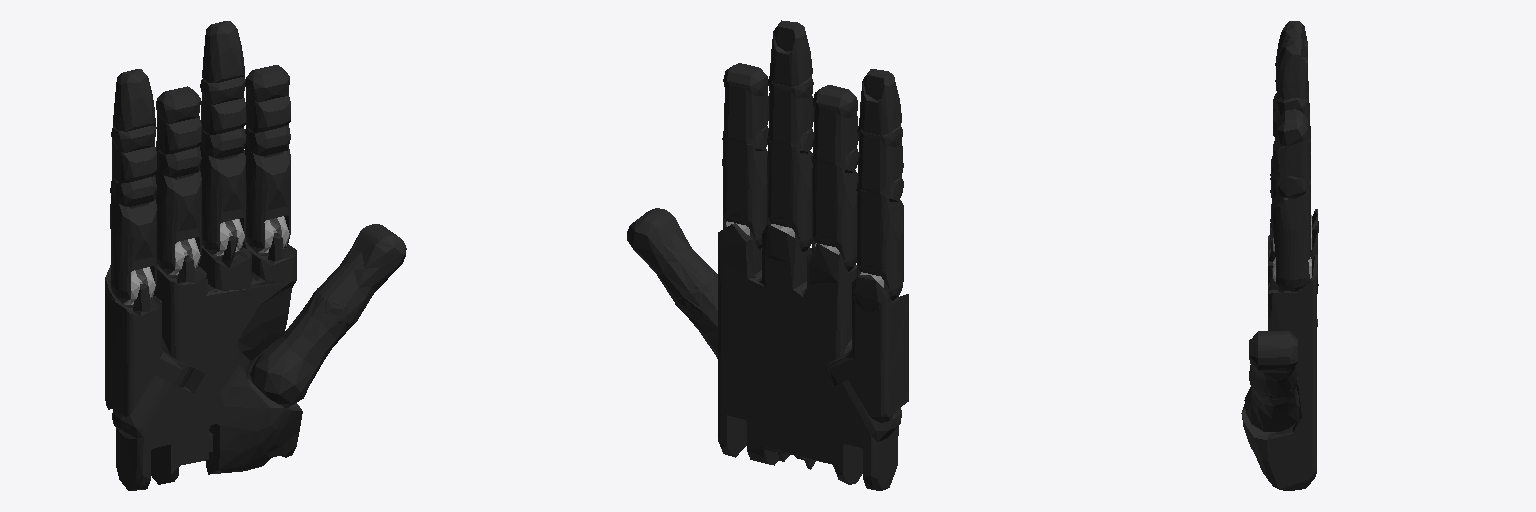
--- What the picture shows (computed from the rendered views, not written in the file) ---
Views: 3 orthographic renders of the robot side by side, from view 1: azimuth 30°, elevation 25°; view 2: azimuth 150°, elevation 25°; view 3: azimuth 270°, elevation 25°.
Robot: shadowhand — 29 links, 28 joints (22 revolute, 6 fixed); root link base_link; default pose: all joints at 0.
Visible links, largest first — view 1: palm, lfmetacarpal, thproximal, thmiddle, rfmiddle, ffmiddle, lfproximal, ffproximal, rfproximal, mfproximal, lfmiddle, mfmiddle (+6 smaller); view 2: palm, lfmetacarpal, thmiddle, lfproximal, rfproximal, mfproximal, ffproximal, rfmiddle, ffmiddle, lfmiddle, mfmiddle, lfdistal (+2 smaller); view 3: palm, ffproximal, thmiddle, ffmiddle, thproximal, mfdistal, mfmiddle.
Boxes of the visible links, bbox=[...] form: palm: bbox=[112, 233, 302, 490]; lfmetacarpal: bbox=[105, 265, 194, 416]; thproximal: bbox=[250, 288, 353, 407]; thmiddle: bbox=[312, 224, 406, 328]; rfmiddle: bbox=[156, 86, 201, 177]; ffmiddle: bbox=[245, 65, 290, 155]; lfproximal: bbox=[110, 194, 156, 303]; ffproximal: bbox=[244, 144, 290, 252]; rfproximal: bbox=[155, 168, 201, 274]; mfproximal: bbox=[200, 146, 245, 254]; lfmiddle: bbox=[110, 125, 156, 206]; mfmiddle: bbox=[200, 77, 246, 158]; palm: bbox=[718, 223, 901, 490]; lfmetacarpal: bbox=[821, 275, 908, 422]; thmiddle: bbox=[627, 208, 717, 311]; lfproximal: bbox=[857, 190, 903, 300]; rfproximal: bbox=[812, 161, 857, 271]; mfproximal: bbox=[767, 141, 812, 251]; ffproximal: bbox=[722, 139, 767, 249]; rfmiddle: bbox=[812, 85, 858, 172]; ffmiddle: bbox=[722, 63, 768, 150]; lfmiddle: bbox=[856, 125, 903, 201]; mfmiddle: bbox=[767, 76, 813, 153]; lfdistal: bbox=[859, 69, 901, 135]; palm: bbox=[1241, 212, 1318, 490]; ffproximal: bbox=[1270, 181, 1310, 291]; thmiddle: bbox=[1249, 331, 1297, 399]; ffmiddle: bbox=[1273, 109, 1310, 198]; thproximal: bbox=[1244, 365, 1299, 431]; mfdistal: bbox=[1275, 37, 1307, 100]; mfmiddle: bbox=[1273, 92, 1310, 151].
Size in the robot's own frame: 0.1355 by 0.0345 by 0.2098 metres.
Meshes: 10 distinct files referenced, 20 mesh visuals loaded (9 binary STL); not drawn: 3 (reference not matched to a file when rendering).

The robot description file, URDF, robot "shadowhand":
<robot name="shadowhand">
  <material name="Blue">
    <color rgba="0.0 0.0 0.8 1.0" />
  </material>
  <material name="Green">
    <color rgba="0.0 0.8 0.0 1.0" />
  </material>
  <material name="Grey">
    <color rgba="0.2 0.2 0.2 1.0" />
  </material>
  <material name="LightGrey">
    <color rgba="0.6 0.6 0.6 1.0" />
  </material>
  <material name="Red">
    <color rgba="0.8 0.0 0.0 1.0" />
  </material>
  <material name="White">
    <color rgba="1.0 1.0 1.0 1.0" />
  </material>
  <link name="base_link"/>
  <joint name="base_link_palm" type="fixed">
    <origin rpy="0.00000000 0.00000000 0.00000000"/>
    <parent link="base_link"/>
    <child link="palm"/>
  </joint>
  <link name="palm">
    <inertial>
      <origin rpy="0 0 0" xyz="0 0 0.035" />
      <mass value="0.3" />
      <inertia ixx="0.5" ixy="0.0" ixz="0.0" iyy="0.5" iyz="0.0" izz="0.3" />
    </inertial>
    <visual>
      <origin rpy="0 0 0" xyz="0 0 0" />
      <geometry name="palm_visual">
        <mesh filename="meshes_simplified/palm.stl" scale="0.001 0.001 0.001" />
      </geometry>
      <material name="Grey" />
    </visual>
    <collision>
      <origin rpy="0 0 0" xyz="0 0 0" />
      <geometry name="palm_visual">
        <mesh filename="meshes_simplified/palm.stl" scale="0.001 0.001 0.001" />
      </geometry>
    </collision>
  </link>
  <link name="ffknuckle">
    <inertial>
      <origin rpy="0 0 0" xyz="0 0 0" />

      <mass value="0.008" />
      <inertia ixx="0.0" ixy="0.0" ixz="0.0" iyy="0.1" iyz="0.0" izz="0.0" />
    </inertial>
    <visual>
      <origin rpy="0 0 0" xyz="0 0 0.0005" />
      <geometry name="knuckle_visual">
        <mesh filename="meshes_simplified/knuckle.stl" scale="0.001 0.001 0.001" />
      </geometry>
      <material name="LightGrey" />
    </visual>
    <collision>
      <origin rpy="0 0 0" xyz="0 0 0.0005" />
      <geometry name="knuckle_visual">
        <mesh filename="meshes_simplified/knuckle.stl" scale="0.001 0.001 0.001" />
      </geometry>
    </collision>
  </link>
  <joint name="FFJ4" type="revolute">
    <parent link="palm" />
    <child link="ffknuckle" />

    <origin rpy="0 0 0" xyz="0.033 0 0.095" />
    <axis xyz="0 -1 0" />
    <limit effort="100" lower="-0.43633231299858238" upper="0.43633231299858238" velocity="1.0" />
    <dynamics damping="50.5" />
  </joint>
  <link name="ffproximal">
    <inertial>
      <mass value="0.014" />
      <origin xyz="0 0 0.0225" />
      <inertia ixx="0.1" ixy="0.0" ixz="0.0" iyy="0.1" iyz="0.0" izz="0.0" />
    </inertial>
    <visual>
      <origin rpy="0 0 0" xyz="0 0 0" />
      <geometry name="proximal_visual">
        <mesh filename="meshes_simplified/F3.stl" scale="0.001 0.001 0.001" />
      </geometry>
      <material name="Grey" />
    </visual>
    <collision>
      <origin rpy="0 0 0" xyz="0 0 0" />
      <geometry name="proximal_visual">
        <mesh filename="meshes_simplified/F3.stl" scale="0.001 0.001 0.001" />
      </geometry>
    </collision>
  </link>
  <joint name="FFJ3" type="revolute">
    <parent link="ffknuckle" />
    <child link="ffproximal" />
    <origin rpy="0 0 0" xyz="0 0 0" />
    <axis xyz="1 0 0" />
    <limit effort="100" lower="0" upper="1.57079632679" velocity="1.0" />
    <dynamics damping="50.5" />
  </joint>
  <link name="ffmiddle">
    <inertial>
      <origin rpy="0 0 0" xyz="0 0 0.0125" />
      <mass value="0.012" />
      <inertia ixx="0.1" ixy="0.0" ixz="0.0" iyy="0.1" iyz="0.0" izz="0.0" />
    </inertial>
    <visual>
      <origin rpy="0 0 0" xyz="0 0 0" />
      <geometry name="middle_visual">
        <mesh filename="meshes_simplified/F2.stl" scale="0.001 0.001 0.001" />
      </geometry>
      <material name="Grey" />
    </visual>
    <collision>
      <origin rpy="0 0 0" xyz="0 0 0" />
      <geometry name="middle_visual">
        <mesh filename="meshes_simplified/F2.stl" scale="0.001 0.001 0.001" />
      </geometry>
    </collision>
  </link>
  <joint name="FFJ2" type="revolute">
    <parent link="ffproximal" />
    <child link="ffmiddle" />
    <origin rpy="0 0 0" xyz="0 0 0.045" />
    <axis xyz="1 0 0" />
    <limit effort="100" lower="0" upper="1.57079632679" velocity="1.0" />
    <dynamics damping="50.5" />
  </joint>
  <link name="ffdistal">
    <inertial>
      <mass value="0.010" />
      <origin xyz="0 0 0.013" />
      <inertia ixx="0.1" ixy="0.0" ixz="0.0" iyy="0.1" iyz="0.0" izz="0.0" />
    </inertial>
    <visual>
      <origin rpy="0 0 0" xyz="0 0 0" />
      <geometry name="distal_visual">
        <mesh filename="meshes_simplified/distal_ellipsoid.stl" scale="0.001 0.001 0.001" />
      </geometry>
      <material name="Grey" />
    </visual>

    <collision>
      <origin rpy="0 0 0" xyz="0 0 0" />
      <geometry name="distal_collision_geom">
        <mesh filename="meshes_simplified/distal_ellipsoid.stl" scale="0.001 0.001 0.001" />
      </geometry>
    </collision>
  </link>
  <joint name="FFJ1" type="revolute">
    <parent link="ffmiddle" />
    <child link="ffdistal" />
    <origin rpy="0 0 0" xyz="0 0 0.025" />
    <axis xyz="1 0 0" />
    <limit effort="100" lower="0" upper="1.57079632679" velocity="1.0" />
    <dynamics damping="50.5" />
  </joint>
  <link name="fftip">
    <inertial>
      <mass value="0.001" />
      <inertia ixx="0.0" ixy="0.0" ixz="0.0" iyy="0.0" iyz="0.0" izz="0.0" />
    </inertial>
  </link>
  <joint name="FFtip" type="fixed">
    <parent link="ffdistal" />
    <child link="fftip" />
    <origin rpy="0 0 0" xyz="0 0 0.026" />
  </joint>
  <link name="mfknuckle">
    <inertial>
      <origin rpy="0 0 0" xyz="0 0 0" />

      <mass value="0.008" />
      <inertia ixx="0.0" ixy="0.0" ixz="0.0" iyy="0.1" iyz="0.0" izz="0.0" />
    </inertial>
    <visual>
      <origin rpy="0 0 0" xyz="0 0 0.0005" />
      <geometry name="knuckle_visual">
        <mesh filename="meshes_simplified/knuckle.stl" scale="0.001 0.001 0.001" />
      </geometry>
      <material name="LightGrey" />
    </visual>
    <collision>
      <origin rpy="0 0 0" xyz="0 0 0.0005" />
      <geometry name="knuckle_visual">
        <mesh filename="meshes_simplified/knuckle.stl" scale="0.001 0.001 0.001" />
      </geometry>
    </collision>
  </link>
  <joint name="MFJ4" type="revolute">
    <parent link="palm" />
    <child link="mfknuckle" />

    <origin rpy="0 0 0" xyz="0.011 0 0.099" />
    <axis xyz="0 -1 0" />
    <limit effort="100" lower="-0.43633231299858238" upper="0.43633231299858238" velocity="1.0" />
    <dynamics damping="50.5" />
  </joint>
  <link name="mfproximal">
    <inertial>
      <mass value="0.014" />
      <origin xyz="0 0 0.0225" />
      <inertia ixx="0.1" ixy="0.0" ixz="0.0" iyy="0.1" iyz="0.0" izz="0.0" />
    </inertial>
    <visual>
      <origin rpy="0 0 0" xyz="0 0 0" />
      <geometry name="proximal_visual">
        <mesh filename="meshes_simplified/F3.stl" scale="0.001 0.001 0.001" />
      </geometry>
      <material name="Grey" />
    </visual>
    <collision>
      <origin rpy="0 0 0" xyz="0 0 0" />
      <geometry name="proximal_visual">
        <mesh filename="meshes_simplified/F3.stl" scale="0.001 0.001 0.001" />
      </geometry>
    </collision>
  </link>
  <joint name="MFJ3" type="revolute">
    <parent link="mfknuckle" />
    <child link="mfproximal" />
    <origin rpy="0 0 0" xyz="0 0 0" />
    <axis xyz="1 0 0" />
    <limit effort="100" lower="0" upper="1.57079632679" velocity="1.0" />
    <dynamics damping="50.5" />
  </joint>
  <link name="mfmiddle">
    <inertial>
      <origin rpy="0 0 0" xyz="0 0 0.0125" />
      <mass value="0.012" />
      <inertia ixx="0.1" ixy="0.0" ixz="0.0" iyy="0.1" iyz="0.0" izz="0.0" />
    </inertial>
    <visual>
      <origin rpy="0 0 0" xyz="0 0 0" />
      <geometry name="middle_visual">
        <mesh filename="meshes_simplified/F2.stl" scale="0.001 0.001 0.001" />
      </geometry>
      <material name="Grey" />
    </visual>
    <collision>
      <origin rpy="0 0 0" xyz="0 0 0" />
      <geometry name="middle_visual">
        <mesh filename="meshes_simplified/F2.stl" scale="0.001 0.001 0.001" />
      </geometry>
    </collision>
  </link>
  <joint name="MFJ2" type="revolute">
    <parent link="mfproximal" />
    <child link="mfmiddle" />
    <origin rpy="0 0 0" xyz="0 0 0.045" />
    <axis xyz="1 0 0" />
    <limit effort="100" lower="0" upper="1.57079632679" velocity="1.0" />
    <dynamics damping="50.5" />
  </joint>
  <link name="mfdistal">
    <inertial>
      <mass value="0.010" />
      <origin xyz="0 0 0.013" />
      <inertia ixx="0.1" ixy="0.0" ixz="0.0" iyy="0.1" iyz="0.0" izz="0.0" />
    </inertial>
    <visual>
      <origin rpy="0 0 0" xyz="0 0 0" />
      <geometry name="distal_visual">
        <mesh filename="meshes_simplified/F1.stl" scale="0.001 0.001 0.001" />
      </geometry>
      <material name="Grey" />
    </visual>

    <collision>
      <origin rpy="0 0 0" xyz="0 0 0" />
      <geometry name="distal_collision_geom">
        <mesh filename="meshes_simplified/F1.stl" scale="0.001 0.001 0.001" />
      </geometry>
    </collision>
  </link>
  <joint name="MFJ1" type="revolute">
    <parent link="mfmiddle" />
    <child link="mfdistal" />
    <origin rpy="0 0 0" xyz="0 0 0.025" />
    <axis xyz="1 0 0" />
    <limit effort="100" lower="0" upper="1.57079632679" velocity="1.0" />
    <dynamics damping="50.5" />
  </joint>
  <link name="mftip">
    <inertial>
      <mass value="0.001" />
      <inertia ixx="0.0" ixy="0.0" ixz="0.0" iyy="0.0" iyz="0.0" izz="0.0" />
    </inertial>
  </link>
  <joint name="MFtip" type="fixed">
    <parent link="mfdistal" />
    <child link="mftip" />
    <origin rpy="0 0 0" xyz="0 0 0.026" />
  </joint>
  <link name="rfknuckle">
    <inertial>
      <origin rpy="0 0 0" xyz="0 0 0" />

      <mass value="0.008" />
      <inertia ixx="0.0" ixy="0.0" ixz="0.0" iyy="0.1" iyz="0.0" izz="0.0" />
    </inertial>
    <visual>
      <origin rpy="0 0 0" xyz="0 0 0.0005" />
      <geometry name="knuckle_visual">
        <mesh filename="meshes_simplified/knuckle.stl" scale="0.001 0.001 0.001" />
      </geometry>
      <material name="LightGrey" />
    </visual>
    <collision>
      <origin rpy="0 0 0" xyz="0 0 0.0005" />
      <geometry name="knuckle_visual">
        <mesh filename="meshes_simplified/knuckle.stl" scale="0.001 0.001 0.001" />
      </geometry>
    </collision>
  </link>
  <joint name="RFJ4" type="revolute">
    <parent link="palm" />
    <child link="rfknuckle" />

    <origin rpy="0 0 0" xyz="-0.011 0 0.095" />
    <axis xyz="0 1 0" />
    <limit effort="100" lower="-0.43633231299858238" upper="0.43633231299858238" velocity="1.0" />
    <dynamics damping="50.5" />
  </joint>
  <link name="rfproximal">
    <inertial>
      <mass value="0.014" />
      <origin xyz="0 0 0.0225" />
      <inertia ixx="0.1" ixy="0.0" ixz="0.0" iyy="0.1" iyz="0.0" izz="0.0" />
    </inertial>
    <visual>
      <origin rpy="0 0 0" xyz="0 0 0" />
      <geometry name="proximal_visual">
        <mesh filename="meshes_simplified/F3.stl" scale="0.001 0.001 0.001" />
      </geometry>
      <material name="Grey" />
    </visual>
    <collision>
      <origin rpy="0 0 0" xyz="0 0 0" />
      <geometry name="proximal_visual">
        <mesh filename="meshes_simplified/F3.stl" scale="0.001 0.001 0.001" />
      </geometry>
    </collision>
  </link>
  <joint name="RFJ3" type="revolute">
    <parent link="rfknuckle" />
    <child link="rfproximal" />
    <origin rpy="0 0 0" xyz="0 0 0" />
    <axis xyz="1 0 0" />
    <limit effort="100" lower="0" upper="1.57079632679" velocity="1.0" />
    <dynamics damping="50.5" />
  </joint>
  <link name="rfmiddle">
    <inertial>
      <origin rpy="0 0 0" xyz="0 0 0.0125" />
      <mass value="0.012" />
      <inertia ixx="0.1" ixy="0.0" ixz="0.0" iyy="0.1" iyz="0.0" izz="0.0" />
    </inertial>
    <visual>
      <origin rpy="0 0 0" xyz="0 0 0" />
      <geometry name="middle_visual">
        <mesh filename="meshes_simplified/F2.stl" scale="0.001 0.001 0.001" />
      </geometry>
      <material name="Grey" />
    </visual>
    <collision>
      <origin rpy="0 0 0" xyz="0 0 0" />
      <geometry name="middle_visual">
        <mesh filename="meshes_simplified/F2.stl" scale="0.001 0.001 0.001" />
      </geometry>
    </collision>
  </link>
  <joint name="RFJ2" type="revolute">
    <parent link="rfproximal" />
    <child link="rfmiddle" />
    <origin rpy="0 0 0" xyz="0 0 0.045" />
    <axis xyz="1 0 0" />
    <limit effort="100" lower="0" upper="1.57079632679" velocity="1.0" />
    <dynamics damping="50.5" />
  </joint>
  <link name="rfdistal">
    <inertial>
      <mass value="0.010" />
      <origin xyz="0 0 0.013" />
      <inertia ixx="0.1" ixy="0.0" ixz="0.0" iyy="0.1" iyz="0.0" izz="0.0" />
    </inertial>
    <visual>
      <origin rpy="0 0 0" xyz="0 0 0" />
      <geometry name="distal_visual">
        <mesh filename="meshes_simplified/distal_ellipsoid.stl" scale="0.001 0.001 0.001" />
      </geometry>
      <material name="Grey" />
    </visual>

    <collision>
      <origin rpy="0 0 0" xyz="0 0 0" />
      <geometry name="distal_collision_geom">
        <mesh filename="meshes_simplified/distal_ellipsoid.stl" scale="0.001 0.001 0.001" />
      </geometry>
    </collision>
  </link>
  <joint name="RFJ1" type="revolute">
    <parent link="rfmiddle" />
    <child link="rfdistal" />
    <origin rpy="0 0 0" xyz="0 0 0.025" />
    <axis xyz="1 0 0" />
    <limit effort="100" lower="0" upper="1.57079632679" velocity="1.0" />
    <dynamics damping="50.5" />
  </joint>
  <link name="rftip">
    <inertial>
      <mass value="0.001" />
      <inertia ixx="0.0" ixy="0.0" ixz="0.0" iyy="0.0" iyz="0.0" izz="0.0" />
    </inertial>
  </link>
  <joint name="RFtip" type="fixed">
    <parent link="rfdistal" />
    <child link="rftip" />
    <origin rpy="0 0 0" xyz="0 0 0.026" />
  </joint>
  <link name="lfmetacarpal">
    <inertial>
      <origin rpy="0 0 0" xyz="0 0 0.04" />
      <mass value="0.075" />
      <inertia ixx="0.1" ixy="0.0" ixz="0.0" iyy="0.1" iyz="0.0" izz="0.1" />
    </inertial>
    <visual>
      <origin rpy="0 0 0" xyz="0 0 0" />
      <geometry name="lfmetacarpal_visual">
        <mesh filename="meshes_simplified/lfmetacarpal.stl" scale="0.001 0.001 0.001" />
      </geometry>
      <material name="Grey" />
    </visual>
    <collision>
      <origin rpy="0 0 0" xyz="0 0 0" />
      <geometry name="lfmetacarpal_visual">
        <mesh filename="meshes_simplified/lfmetacarpal.stl" scale="0.001 0.001 0.001" />
      </geometry>
    </collision>
  </link>
  <joint name="LFJ5" type="revolute">
    <parent link="palm" />
    <child link="lfmetacarpal" />
    <origin rpy="0 0 0" xyz="-0.033 0 0.02071" />
    <axis xyz="0.573576436 0 0.819152044" />
    <limit effort="100" lower="0" upper="0.69813170079773179" velocity="1.0" />
    <dynamics damping="50.5" />
  </joint>
  <link name="lfknuckle">
    <inertial>
      <origin rpy="0 0 0" xyz="0 0 0.06579" />
      <mass value="0.008" />
      <inertia ixx="0.1" ixy="0.0" ixz="0.0" iyy="0.1" iyz="0.0" izz="0.1" />
    </inertial>
    <visual>
      <origin rpy="0 0 0" xyz="0 0 0" />
      <geometry name="knuckle_visual">
        <mesh filename="meshes_simplified/knuckle.stl" scale="0.001 0.001 0.001" />
      </geometry>
      <material name="LightGrey" />
    </visual>
    <collision>
      <origin rpy="0 0 0" xyz="0 0 0" />
      <geometry name="knuckle_visual">
        <mesh filename="meshes_simplified/knuckle.stl" scale="0.001 0.001 0.001" />
      </geometry>
    </collision>
  </link>
  <joint name="LFJ4" type="revolute">
    <parent link="lfmetacarpal" />
    <child link="lfknuckle" />
    <origin rpy="0 0 0" xyz="0 0 0.06579" />
    <axis xyz="0 1 0" />
    <limit effort="100" lower="-0.43633231299858238" upper="0.43633231299858238" velocity="1.0" />
    <dynamics damping="50.5" />
  </joint>
  <link name="lfproximal">
    <inertial>
      <mass value="0.014" />
      <origin xyz="0 0 0.0225" />
      <inertia ixx="0.1" ixy="0.0" ixz="0.0" iyy="0.1" iyz="0.0" izz="0.0" />
    </inertial>
    <visual>
      <origin rpy="0 0 0" xyz="0 0 0" />
      <geometry name="proximal_visual">
        <mesh filename="meshes_simplified/F3.stl" scale="0.001 0.001 0.001" />
      </geometry>
      <material name="Grey" />
    </visual>
    <collision>
      <origin rpy="0 0 0" xyz="0 0 0" />
      <geometry name="proximal_visual">
        <mesh filename="meshes_simplified/F3.stl" scale="0.001 0.001 0.001" />
      </geometry>
    </collision>
  </link>
  <joint name="LFJ3" type="revolute">
    <parent link="lfknuckle" />
    <child link="lfproximal" />
    <origin rpy="0 0 0" xyz="0 0 0" />
    <axis xyz="1 0 0" />
    <limit effort="100" lower="0" upper="1.57079632679" velocity="1.0" />
    <dynamics damping="50.5" />
  </joint>
  <link name="lfmiddle">
    <inertial>
      <origin rpy="0 0 0" xyz="0 0 0.0125" />
      <mass value="0.012" />
      <inertia ixx="0.1" ixy="0.0" ixz="0.0" iyy="0.1" iyz="0.0" izz="0.0" />
    </inertial>
    <visual>
      <origin rpy="0 0 0" xyz="0 0 0" />
      <geometry name="middle_visual">
        <mesh filename="meshes_simplified/F2.stl" scale="0.001 0.001 0.001" />
      </geometry>
      <material name="Grey" />
    </visual>
    <collision>
      <origin rpy="0 0 0" xyz="0 0 0" />
      <geometry name="middle_visual">
        <mesh filename="meshes_simplified/F2.stl" scale="0.001 0.001 0.001" />
      </geometry>
    </collision>
  </link>
  <joint name="LFJ2" type="revolute">
    <parent link="lfproximal" />
    <child link="lfmiddle" />
    <origin rpy="0 0 0" xyz="0 0 0.045" />
    <axis xyz="1 0 0" />
    <limit effort="100" lower="0" upper="1.57079632679" velocity="1.0" />
    <dynamics damping="50.5" />
  </joint>
  <link name="lfdistal">
    <inertial>
      <mass value="0.010" />
      <origin xyz="0 0 0.013" />
      <inertia ixx="0.1" ixy="0.0" ixz="0.0" iyy="0.1" iyz="0.0" izz="0.0" />
    </inertial>
    <visual>
      <origin rpy="0 0 0" xyz="0 0 0" />
      <geometry name="distal_visual">
        <mesh filename="meshes_simplified/F1.stl" scale="0.001 0.001 0.001" />
      </geometry>
      <material name="Grey" />
    </visual>

    <collision>
      <origin rpy="0 0 0" xyz="0 0 0" />
      <geometry name="distal_collision_geom">
        <mesh filename="meshes_simplified/F1.stl" scale="0.001 0.001 0.001" />
      </geometry>
    </collision>
  </link>
  <joint name="LFJ1" type="revolute">
    <parent link="lfmiddle" />
    <child link="lfdistal" />
    <origin rpy="0 0 0" xyz="0 0 0.025" />
    <axis xyz="1 0 0" />
    <limit effort="100" lower="0" upper="1.57079632679" velocity="1.0" />
    <dynamics damping="50.5" />
  </joint>
  <link name="lftip">
    <inertial>
      <mass value="0.001" />
      <inertia ixx="0.0" ixy="0.0" ixz="0.0" iyy="0.0" iyz="0.0" izz="0.0" />
    </inertial>
  </link>
  <joint name="LFtip" type="fixed">
    <parent link="lfdistal" />
    <child link="lftip" />
    <origin rpy="0 0 0" xyz="0 0 0.026" />
  </joint>
  <link name="thbase">
    <inertial>
      <mass value="0.010" />
      <origin rpy="0 0 0" xyz="0 0 0" />
      <inertia ixx="0.0" ixy="0.0" ixz="0.0" iyy="0.0" iyz="0.0" izz="0.1" />
    </inertial>
    <visual>
      <origin rpy="0 0 0" xyz="0 0 0" />
      <geometry name="thbase_visual">
        <mesh filename="meshes_simplified/box.stl" scale="0.001 0.001 0.001" />
      </geometry>
      <material name="shadow_thbase_material">
        <color rgba="0.5 0.5 0.5 1.0" />
      </material>
    </visual>
    <collision>
      <origin rpy="0 0 0 " xyz="0 0 0" />
      <geometry name="thbase_collision_geom">
        <mesh filename="meshes_simplified/box.stl" scale="0.001 0.001 0.001" />
      </geometry>
    </collision>
  </link>
  <joint name="THJ5" type="revolute">
    <parent link="palm" />
    <child link="thbase" />
    <origin rpy="0 0.785398163397 0" xyz="0.034 -0.0085 0.029" />
    <axis xyz="0 0 -1.0" />
    <limit effort="100" lower="-1.047" upper="1.047" velocity="1.0" />
    <dynamics damping="50.5" />
  </joint>
  <link name="thproximal">
    <inertial>
      <mass value="0.016" />
      <origin rpy="0 0 0" xyz="0 0 0.019" />
      <inertia ixx="0.1" ixy="0.0" ixz="0.0" iyy="0.1" iyz="0.0" izz="0.1" />
    </inertial>
    <visual>
      <origin rpy="0 0 0" xyz="0 0 0" />
      <geometry name="thproximal_visual">
        <mesh filename="meshes_simplified/TH3_z.stl" scale="0.001 0.001 0.001" />
      </geometry>
      <material name="shadow_thproximal_material">
        <color rgba="0.2 0.2 0.2 1.0" />
      </material>
    </visual>
    <collision>
      <origin rpy="0 0 0" xyz="0 0 0" />
      <geometry name="thproximal_visual">
        <mesh filename="meshes_simplified/TH3_z.stl" scale="0.001 0.001 0.001" />
      </geometry>
    </collision>
  </link>
  <joint name="THJ4" type="revolute">
    <parent link="thbase" />
    <child link="thproximal" />
    <origin rpy="0 0 0" xyz="0 0 0" />
    <axis xyz="1.0 0 0" />
    <limit effort="100" lower="0" upper="1.309" velocity="1.0" />
    <dynamics damping="50.5" />
  </joint>
  <link name="thhub">
    <inertial>
      <mass value="0.002" />
      <origin rpy="0 0 0" xyz="0 0 0" />
      <inertia ixx="0.1" ixy="0.0" ixz="0.0" iyy="0.1" iyz="0.0" izz="0.1" />
    </inertial>
    <visual>
      <origin rpy="0 0 0" xyz="0 0 0" />
      <geometry name="thhub_visual">
        <mesh filename="meshes_simplified/box.stl" scale="0.001 0.001 0.001" />
      </geometry>
      <material name="shadow_thhub_material">
        <color rgba="0.7 0.7 0.7 1.0" />
      </material>
    </visual>
    <collision>
      <origin rpy="0 0 0" xyz="0 0 0" />
      <geometry name="thproximal_visual">
        <mesh filename="meshes_simplified/TH3_z.stl" scale="0.001 0.001 0.001" />
      </geometry>
    </collision>
  </link>
  <joint name="THJ3" type="revolute">
    <parent link="thproximal" />
    <child link="thhub" />
    <origin rpy="0 0 0" xyz="0 0 0.038" />
    <axis xyz="1 0 0" />
    <limit effort="100" lower="-0.2618" upper="0.2618" velocity="1.0" />
    <dynamics damping="50.5" />
  </joint>
  <link name="thmiddle">
    <inertial>
      <mass value="0.016" />
      <origin rpy="0 0 0" xyz="0 0 0.016" />
      <inertia ixx="0.1" ixy="0.0" ixz="0.0" iyy="0.1" iyz="0.0" izz="0.1" />
    </inertial>
    <visual>
      <origin rpy="0 0 0" xyz="0 0 0" />
      <geometry name="thmiddle_visual">
        <mesh filename="meshes_simplified/TH2_z.stl" scale="0.001 0.001 0.001" />
      </geometry>
      <material name="shadow_thmiddle_material">
        <color rgba="0.2 0.2 0.2 1.0" />
      </material>
    </visual>
    <collision>
      <origin rpy="0 0 0" xyz="0 0 0" />
      <geometry name="thproximal_visual">
        <mesh filename="meshes_simplified/TH3_z.stl" scale="0.001 0.001 0.001" />
      </geometry>
    </collision>
  </link>
  <joint name="THJ2" type="revolute">
    <parent link="thhub" />
    <child link="thmiddle" />
    <origin rpy="0 0 0" xyz="0 0 0" />
    <axis xyz="0 -1 0" />
    <limit effort="100" lower="-0.5237" upper="0.5237" velocity="1.0" />
    <dynamics damping="50.5" />
  </joint>
  <link name="thdistal">
    <inertial>
      <mass value="0.016" />
      <origin rpy="0 0 0" xyz="0 0 0.01375" />
      <inertia ixx="0.1" ixy="0.0" ixz="0.0" iyy="0.1" iyz="0.0" izz="0.1" />
    </inertial>
    <visual>
      <origin rpy="0 0 0" xyz="0 0.002 0.0025" />
      <geometry name="thdistal_visual">
        <mesh filename="meshes_simplified/distal_ellipsoid.stl" scale="0.001 0.001 0.001" />
      </geometry>
      <material name="shadow_thmiddle_material">
        <color rgba="0.2 0.2 0.2 1.0" />
      </material>
    </visual>
    <collision>
      <origin rpy="0 0 0 " xyz="0 0.002 0.0025" />
      <geometry name="thmiddle_collision_geom">
        <mesh filename="meshes_simplified/distal_ellipsoid.stl" scale="0.001 0.001 0.001" />
      </geometry>
    </collision>
  </link>
  <joint name="THJ1" type="revolute">
    <parent link="thmiddle" />
    <child link="thdistal" />
    <origin rpy="0 0 -1.570796327" xyz="0 0 0.032" />
    <axis xyz="1 0 0" />
    <limit effort="100" lower="0" upper="1.571" velocity="1.0" />
    <dynamics damping="50.5" />
  </joint>
  <link name="thtip">
    <inertial>
      <mass value="0.001" />
      <inertia ixx="0.0" ixy="0.0" ixz="0.0" iyy="0.0" iyz="0.0" izz="0.0" />
    </inertial>
  </link>
  <joint name="thtip" type="fixed">
    <parent link="thdistal" />
    <child link="thtip" />
    <origin rpy="0 0 0" xyz="0 0 0.0275" />
  </joint>
  </robot>
